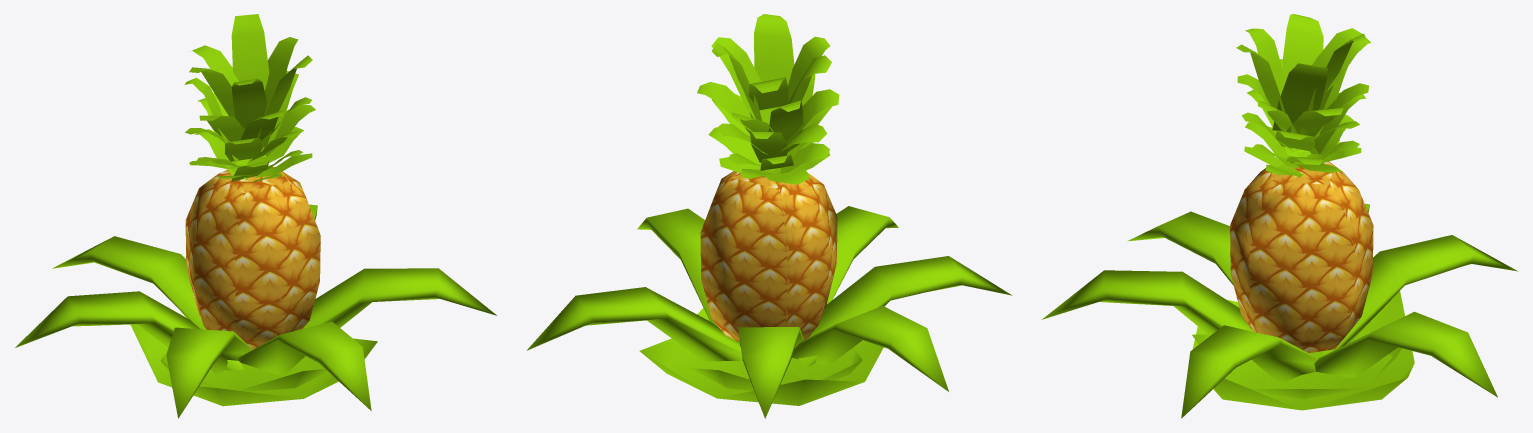
Rendered from Pineapple.fbx.
3 views of the same model, side by side, from view 1: azimuth 30°, elevation 25°; view 2: azimuth 150°, elevation 25°; view 3: azimuth 270°, elevation 25° (orthographic). The views are drawn at different scales.
Visible parts, largest first — view 1: PineapplePlant, Pineapple; view 2: PineapplePlant, Pineapple; view 3: PineapplePlant, Pineapple.
Part boxes in pixels (x1,y1,x2,y2): PineapplePlant: (184, 14, 320, 349); Pineapple: (15, 204, 496, 418); PineapplePlant: (697, 14, 839, 342); Pineapple: (526, 206, 1012, 418); PineapplePlant: (1230, 14, 1373, 353); Pineapple: (1042, 203, 1517, 418).
Size of the model in its own units: 0.7294 by 0.5719 by 0.7222.
